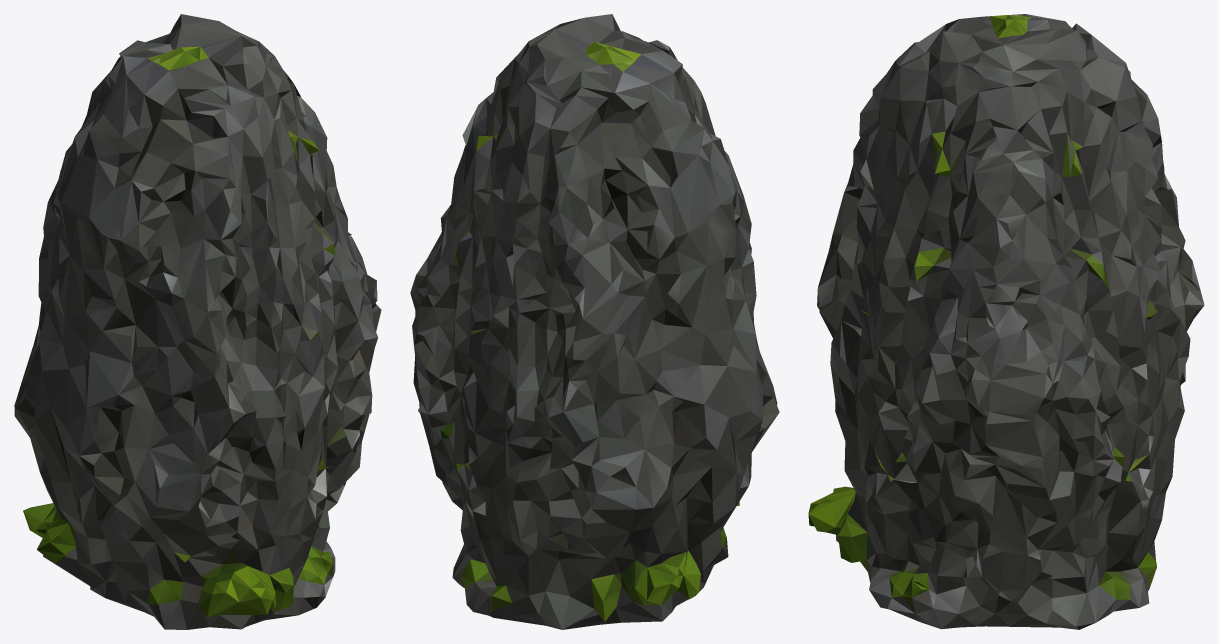
The model's file is stone.glb.
3 renders of one model, left to right at view 1: azimuth 30°, elevation 25°; view 2: azimuth 150°, elevation 25°; view 3: azimuth 270°, elevation 25°, orthographic. The views are drawn at different scales.
Parts seen in each view (by area): view 1: stone; view 2: stone; view 3: stone.
Part boxes in pixels (x1=…): stone: x1=14, y1=14, x2=381, y2=629; stone: x1=410, y1=14, x2=779, y2=629; stone: x1=808, y1=14, x2=1204, y2=629.
Size of the model in its own units: 0.6021 by 0.9789 by 0.6283.
1 material, 1 textured.
